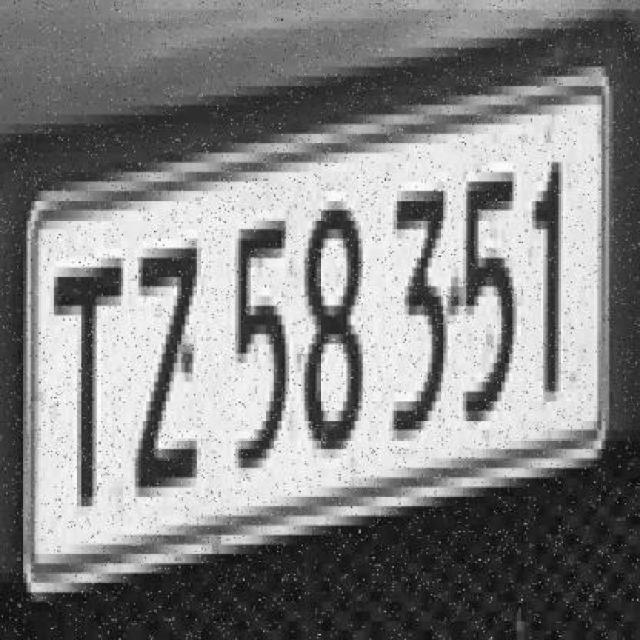licenseplate: (14, 168, 615, 560)
